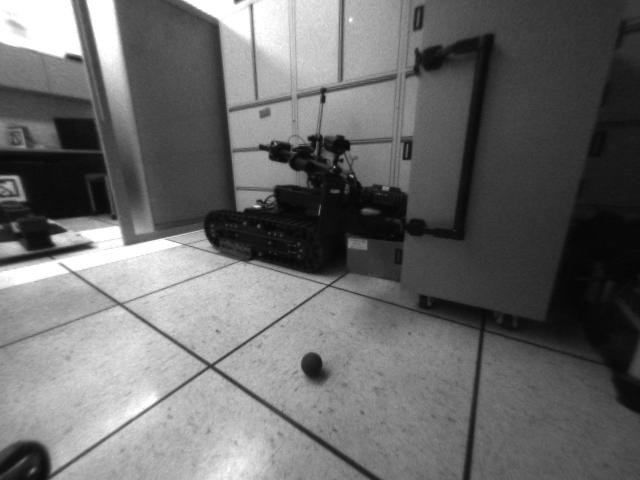dogtoy: (296, 346, 332, 381)
